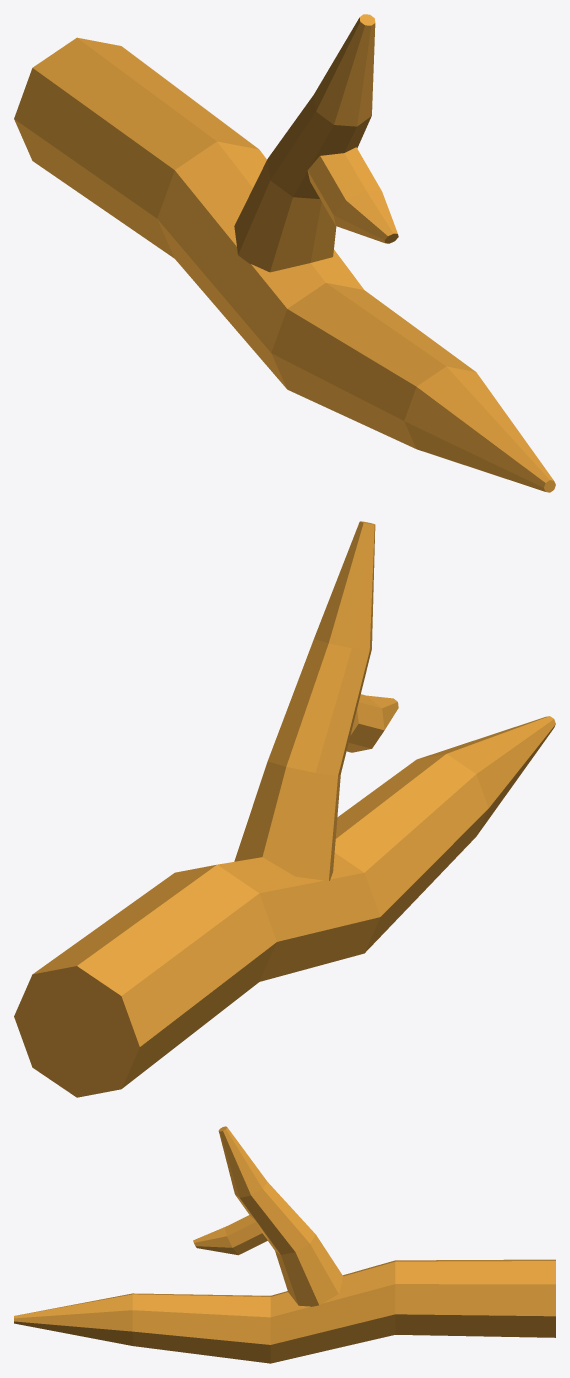
File: Branch3.fbx
The picture shows the model from 3 angles, top to bottom: view 1: azimuth 30°, elevation 25°; view 2: azimuth 150°, elevation 25°; view 3: azimuth 270°, elevation 25°; orthographic projection. The views are drawn at different scales.
Parts seen in each view (by area): view 1: Branch; view 2: Branch; view 3: Branch.
Part boxes in pixels (box(x1,y1,x2,y2)): Branch: box(14, 14, 555, 492); Branch: box(14, 521, 555, 1097); Branch: box(14, 1126, 555, 1363).
Bounding box in the file's own units: 111 × 347 × 724.
